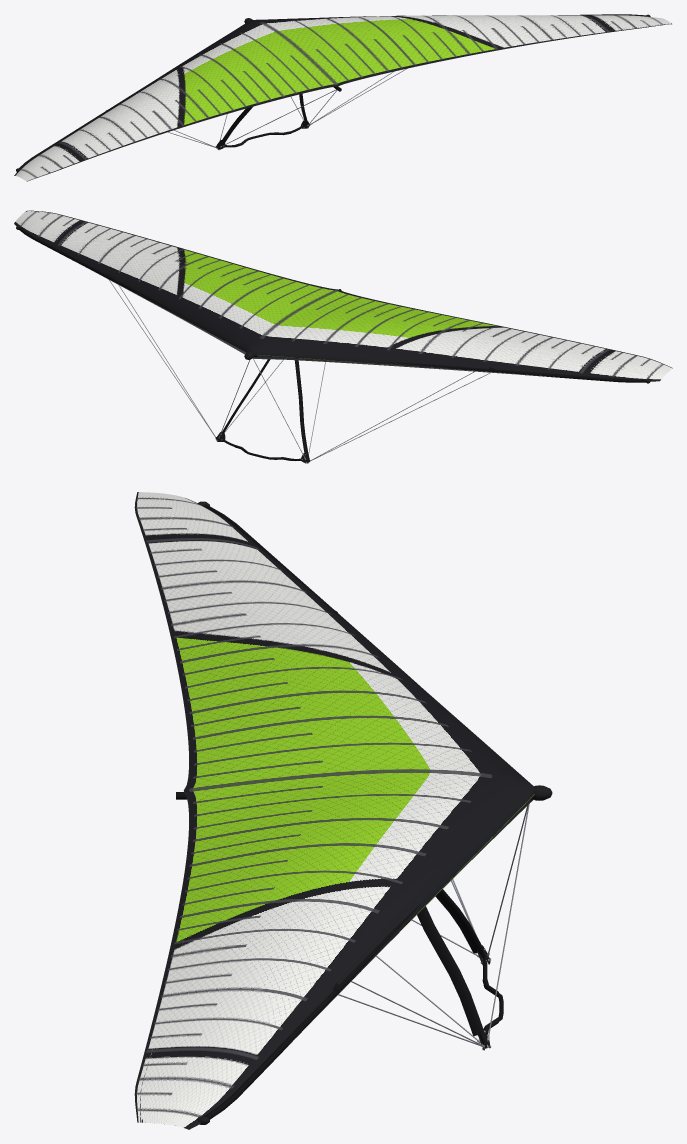
The model's file is glider_icaro_laminar_z9.glb.
The picture shows the model from 3 angles, top to bottom: view 1: azimuth 30°, elevation 25°; view 2: azimuth 150°, elevation 25°; view 3: azimuth 270°, elevation 25°; orthographic projection. The views are drawn at different scales.
Parts seen in each view (by area): view 1: Sail, ControlFrame, Frame; view 2: Sail, ControlFrame, Frame; view 3: Sail, ControlFrame, Frame.
Part boxes in pixels (left/top/right/bottom): Sail: left=14, top=15, right=672, bottom=181; ControlFrame: left=168, top=68, right=407, bottom=149; Frame: left=16, top=14, right=650, bottom=171; Sail: left=14, top=210, right=672, bottom=381; ControlFrame: left=109, top=280, right=490, bottom=463; Frame: left=16, top=225, right=650, bottom=383; Sail: left=134, top=492, right=534, bottom=1129; ControlFrame: left=338, top=803, right=529, bottom=1050; Frame: left=176, top=501, right=552, bottom=1124.
Bounding box in the file's own units: 10.02 × 1.79 × 2.8.
Materials: 8 (1 with a texture image).
